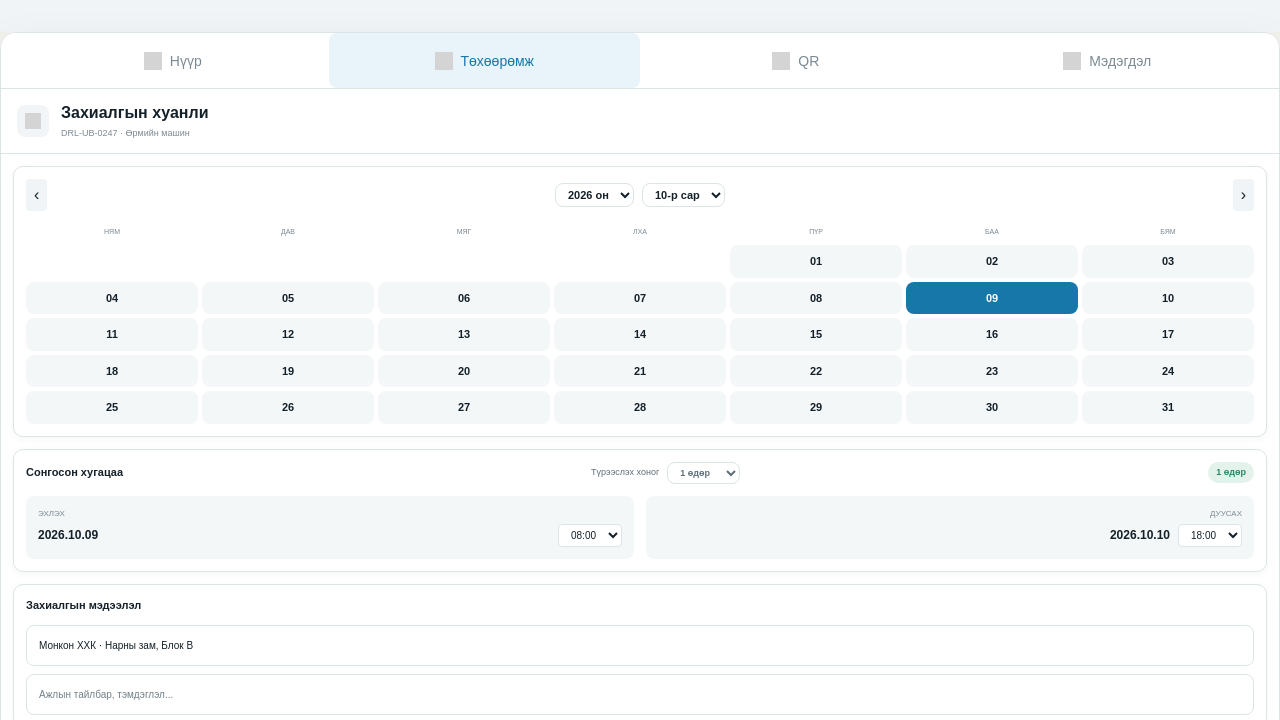
Test: MobileOpsApp screens › updates the selected rental start and end date for day 05
What coordinates should you click on to do the following:
click the button "05"
I would click on:
 (288, 298)
Its box is 202,282 -> 374,314.
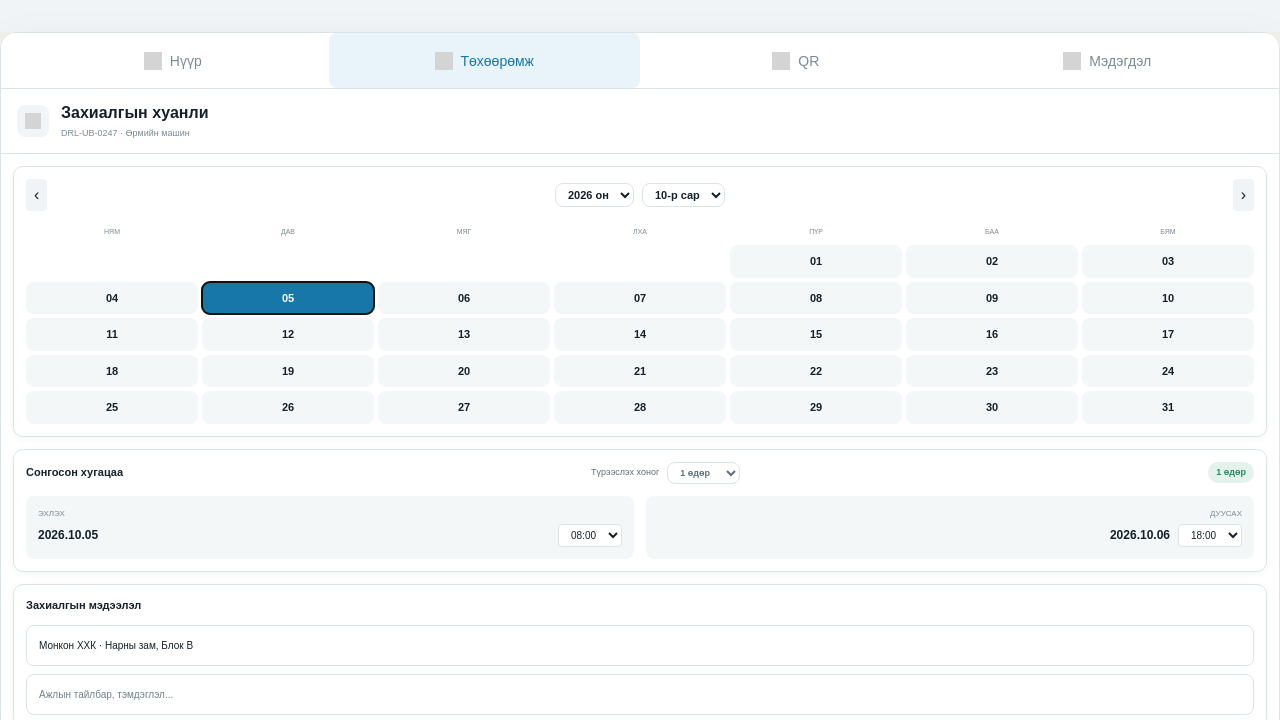
Expected: the text "2026.10.05" is shown, 38,526 -> 98,544
Expected: the text "2026.10.06" is shown, 1110,526 -> 1170,544
